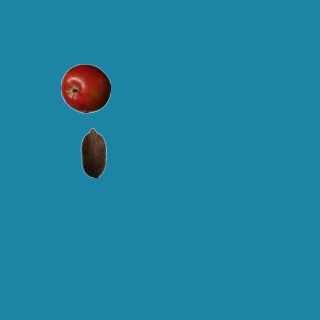Apple Braeburn: (60, 63, 110, 113)
Nut Pecan: (68, 127, 118, 177)
